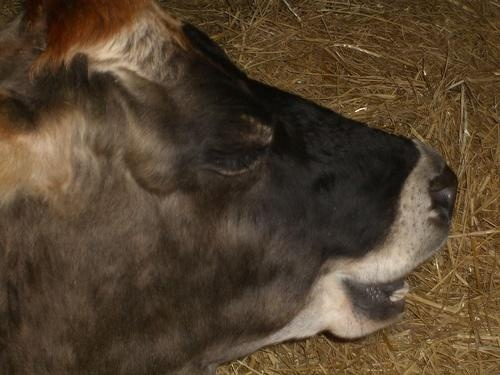cow: (1, 3, 465, 375)
